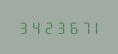four: (29, 20, 40, 34)
one: (89, 20, 100, 34)
seven: (77, 20, 88, 34)
six: (65, 20, 76, 34)
three: (17, 20, 28, 34), (53, 20, 64, 34)
two: (41, 20, 52, 34)
